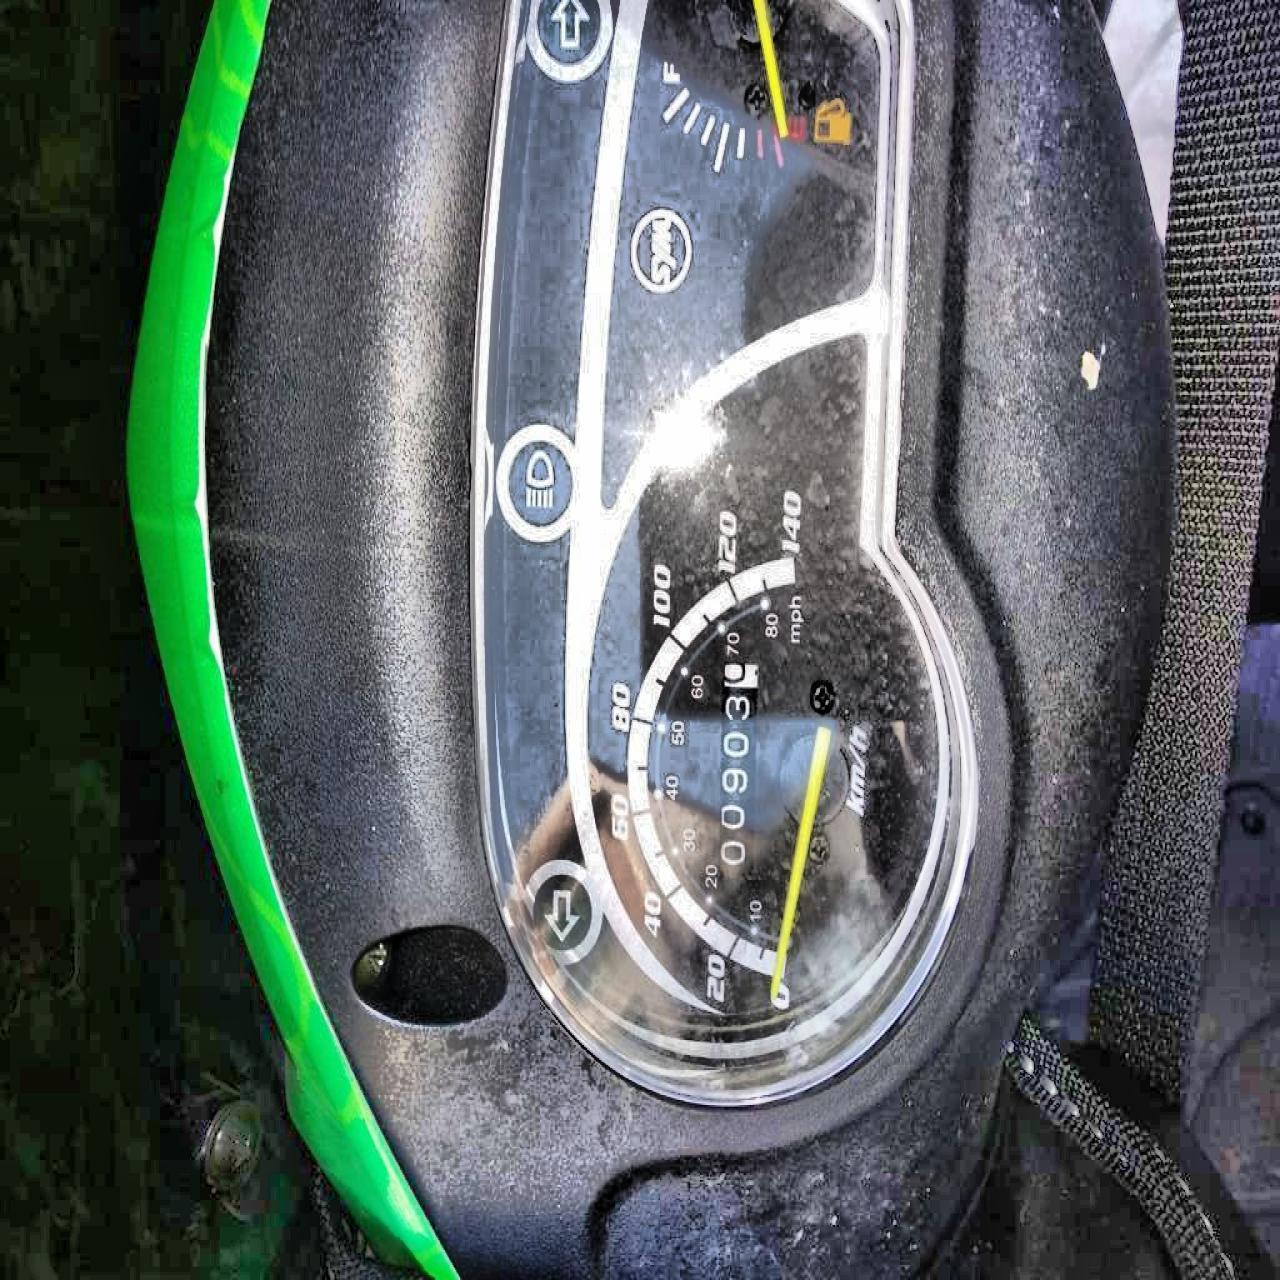0: (717, 729, 751, 758), (716, 801, 745, 832), (719, 656, 748, 686), (716, 840, 745, 865)
3: (720, 692, 751, 722)
9: (717, 763, 749, 795)
odometer: (712, 655, 760, 885)
